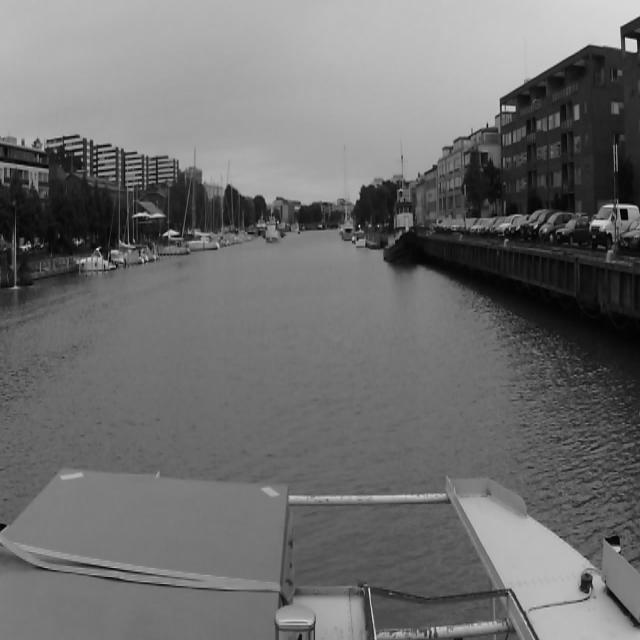ship: (106, 149, 148, 263), (143, 152, 183, 260), (179, 148, 219, 252), (384, 184, 422, 268), (338, 142, 352, 241), (76, 250, 118, 272), (266, 222, 282, 246), (356, 227, 366, 249)
